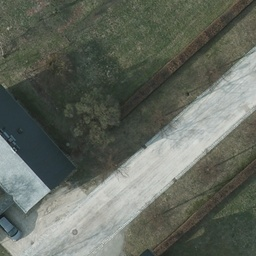car: (1, 210, 21, 241)
